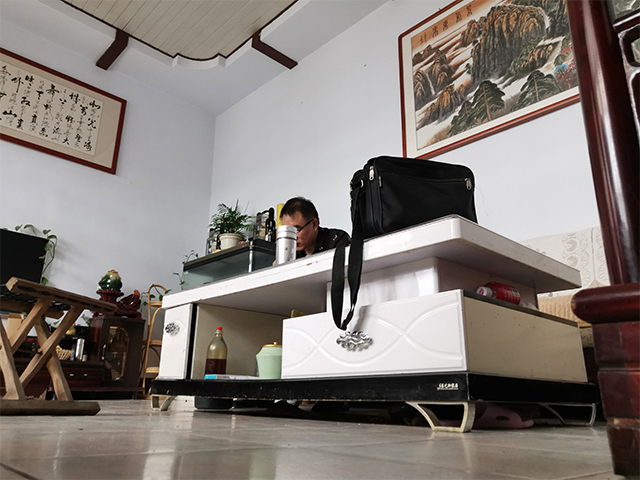stool: (1, 275, 118, 417)
table: (148, 211, 602, 434), (1, 314, 148, 401)
